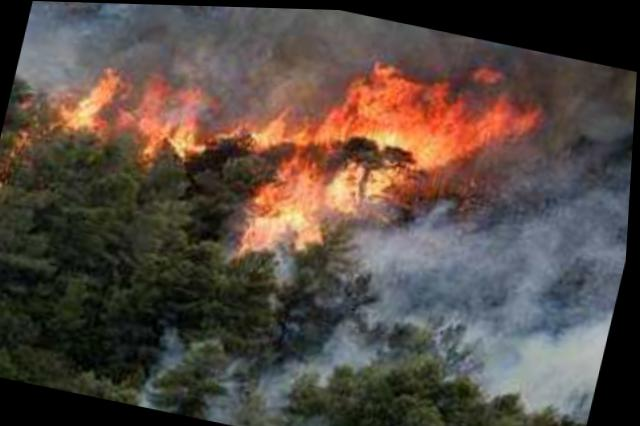fire: (0, 0, 557, 323)
